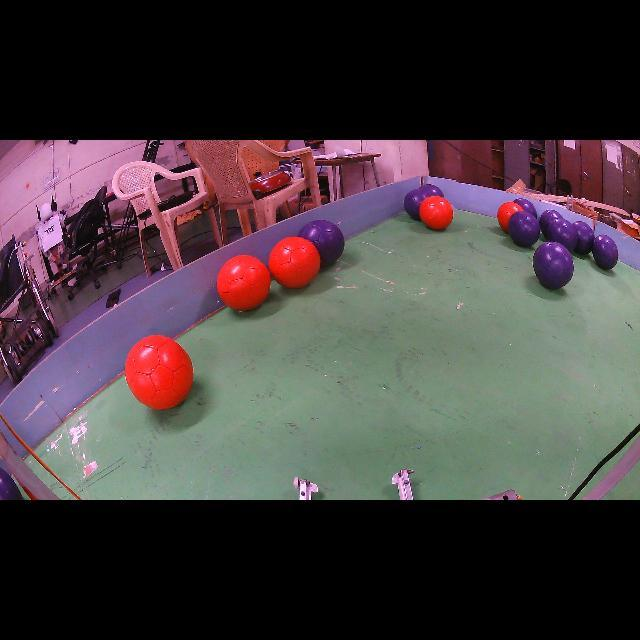P: (298, 220, 345, 266), (532, 241, 574, 289), (404, 184, 444, 220), (508, 211, 540, 246), (546, 218, 578, 252), (592, 234, 619, 270), (572, 221, 595, 255), (539, 210, 562, 238), (514, 199, 538, 218)
R: (125, 335, 192, 409), (218, 255, 271, 310), (269, 236, 320, 288), (420, 196, 454, 230), (498, 201, 522, 232)
